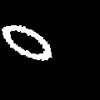chain: (2, 25, 50, 60)
